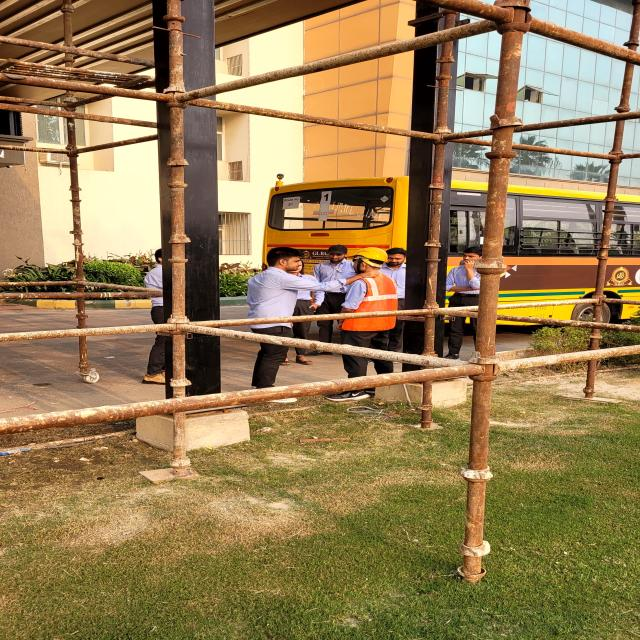safe: (343, 247, 397, 401)
unsafe: (246, 247, 306, 403), (311, 244, 353, 356), (448, 246, 481, 359), (145, 249, 170, 385), (382, 248, 407, 358)
